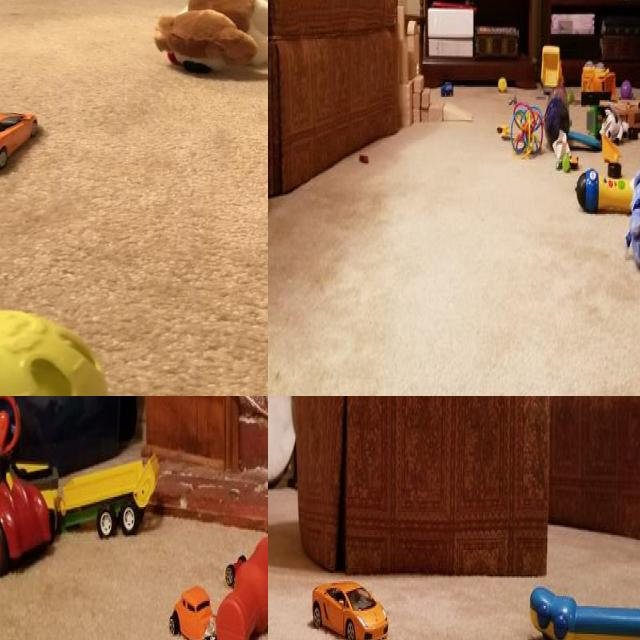toy: (0, 310, 109, 396), (48, 462, 158, 536), (159, 0, 268, 68), (529, 574, 640, 640), (0, 454, 52, 572), (219, 521, 268, 640), (310, 572, 391, 640), (0, 105, 50, 179), (166, 583, 221, 640), (577, 167, 640, 212), (512, 100, 545, 162), (590, 102, 640, 140), (623, 164, 640, 270), (583, 58, 621, 105), (546, 93, 572, 156), (538, 39, 566, 93), (218, 537, 249, 584), (0, 396, 19, 471), (548, 131, 579, 175), (564, 122, 603, 156), (604, 102, 632, 142), (496, 115, 516, 147), (440, 74, 455, 100), (620, 81, 636, 102), (359, 148, 371, 168), (496, 77, 510, 93)
